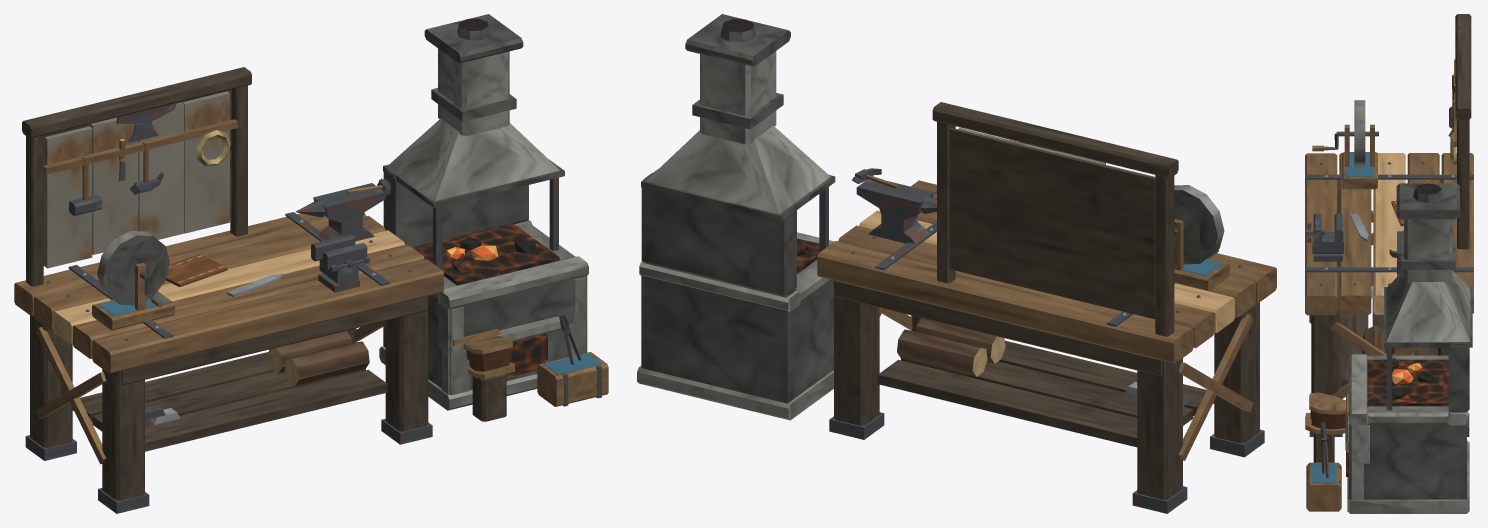
Rendered from SM_Workbench_Level04.fbx.
3 renders of one model, left to right at view 1: azimuth 30°, elevation 25°; view 2: azimuth 150°, elevation 25°; view 3: azimuth 270°, elevation 25°, orthographic. The views are drawn at different scales.
Visible parts, largest first — view 1: SM_Workbench_Level04; view 2: SM_Workbench_Level04; view 3: SM_Workbench_Level04.
Part boxes in pixels (box(x1,y1,x2,y2)): SM_Workbench_Level04: box(14, 14, 608, 513); SM_Workbench_Level04: box(637, 14, 1276, 513); SM_Workbench_Level04: box(1305, 14, 1473, 513).
Size of the model in its own units: 12.1 by 7.7 by 4.
Materials: 1 (1 with a texture image).
